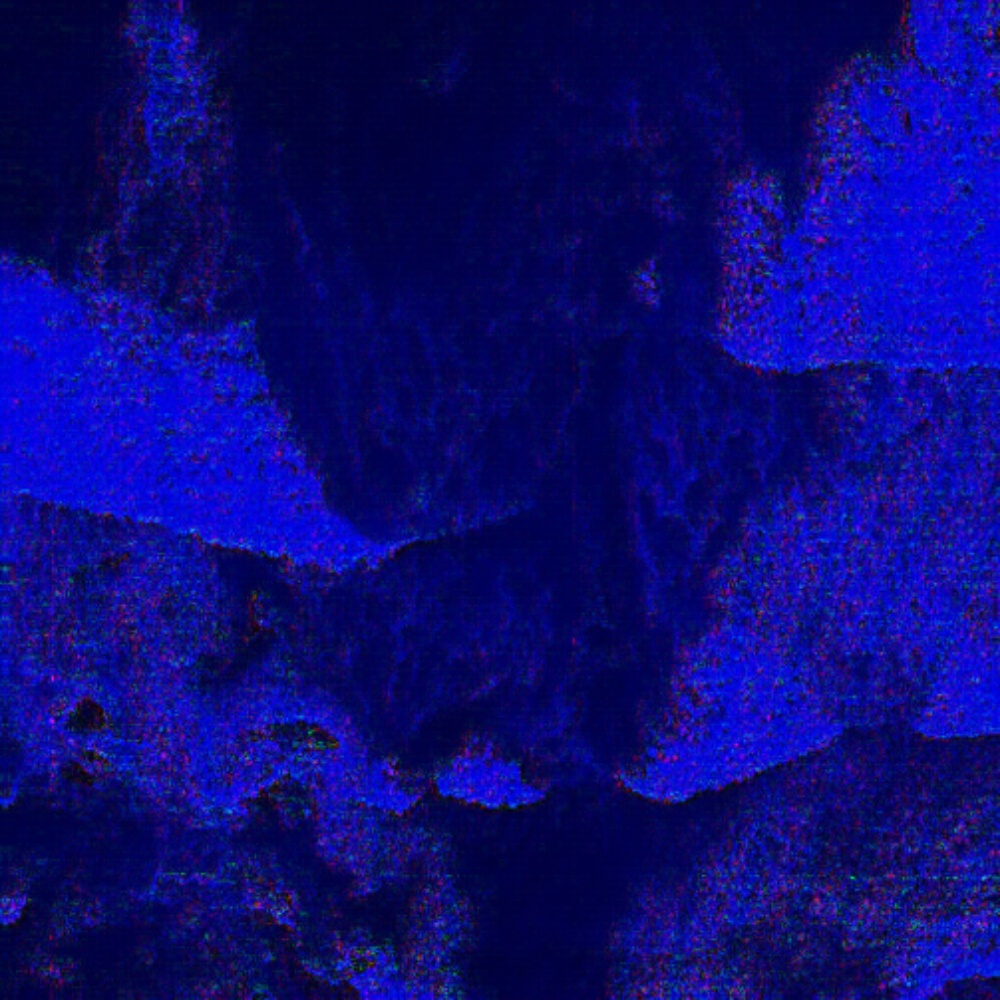rip_current: (193, 125, 776, 925)
